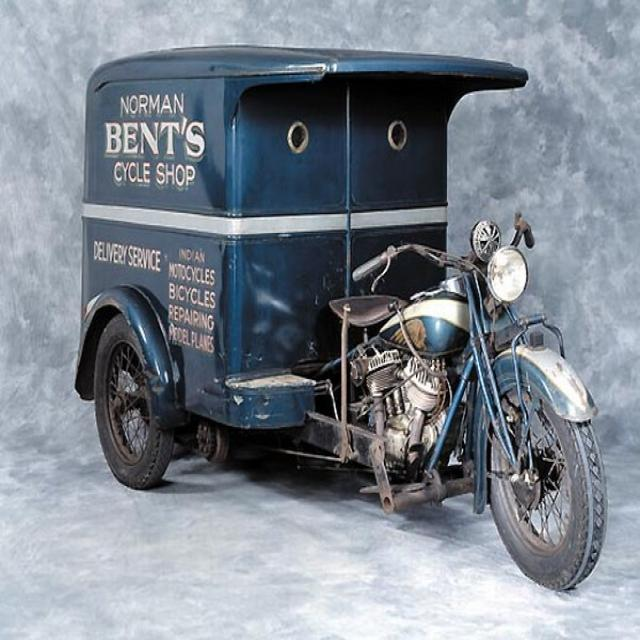motorcycle: (75, 47, 605, 589)
